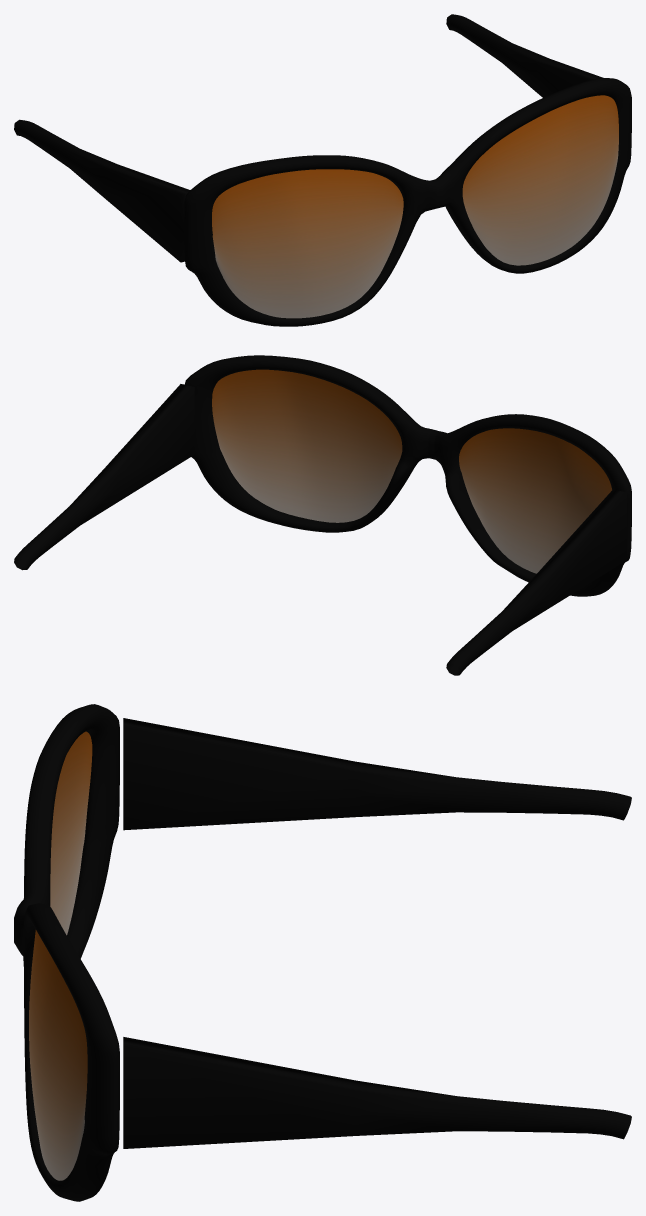
The model's file is blackglasses2.obj.
3 views of the same model, one above another, from view 1: azimuth 30°, elevation 25°; view 2: azimuth 150°, elevation 25°; view 3: azimuth 270°, elevation 25° (orthographic). The views are drawn at different scales.
Size of the model in its own units: 38.98 by 13.99 by 30.92.
2 materials, 1 textured.
